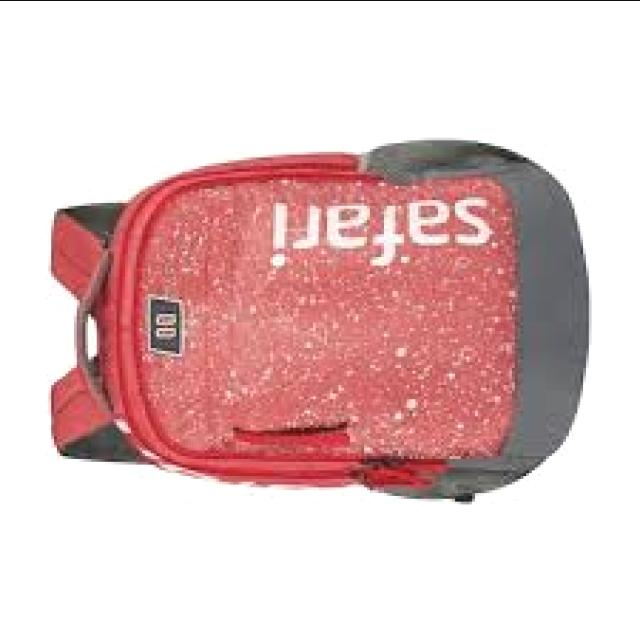backpack: (46, 141, 590, 505)
